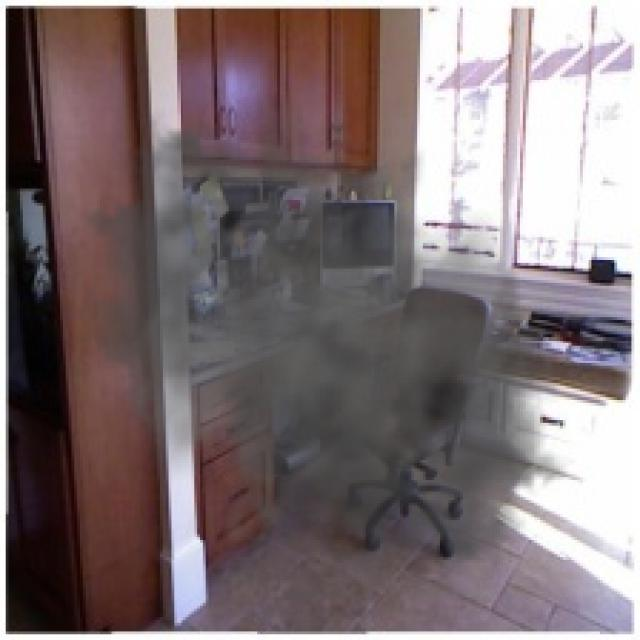smoke: (49, 88, 600, 603)
